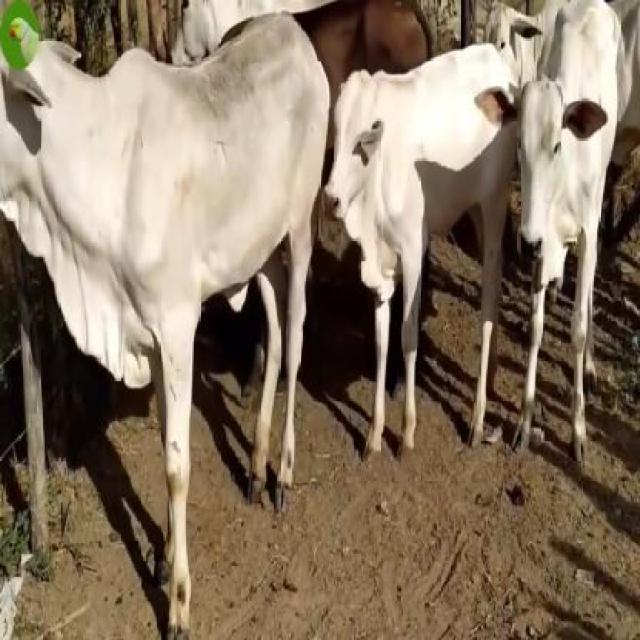Cow: (320, 43, 518, 454), (472, 0, 637, 471)
